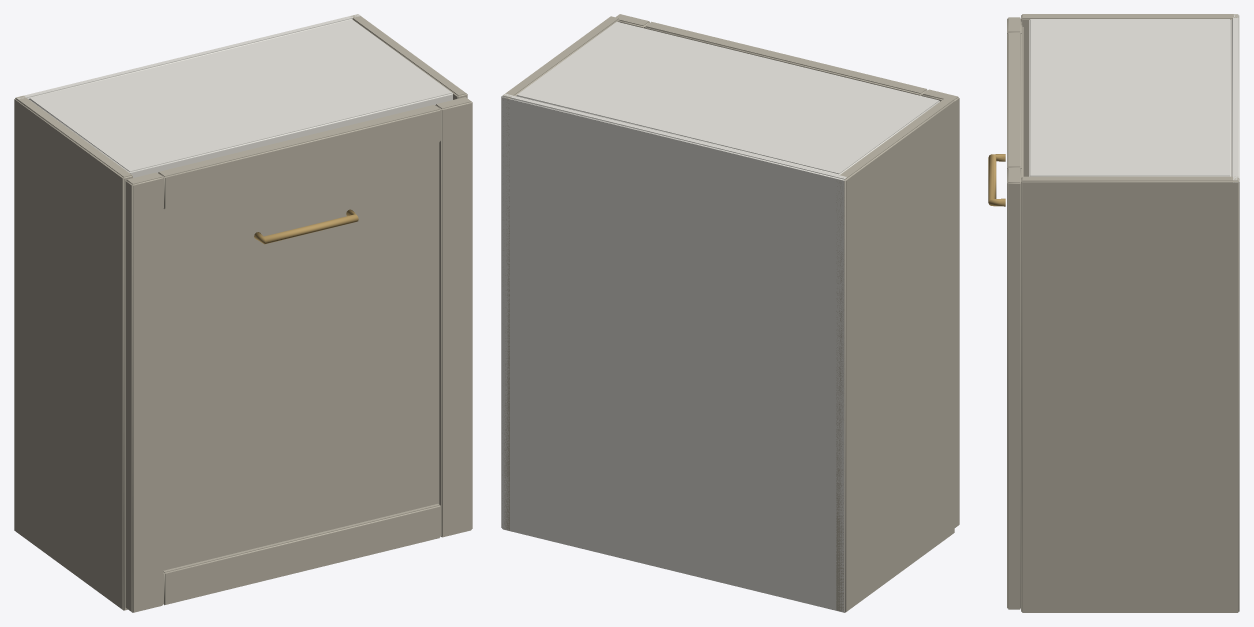
The model's file is scandinavian.kitchen_wall.gltf.
The picture shows the model from 3 angles, left to right: view 1: azimuth 30°, elevation 25°; view 2: azimuth 150°, elevation 25°; view 3: azimuth 270°, elevation 25°; orthographic projection.
Visible parts, largest first — view 1: scandinavian.kitchen_wall.back; view 2: scandinavian.kitchen_wall.back; view 3: scandinavian.kitchen_wall.back.
Boxes of the visible parts, x1,y1,x2,y2 form: scandinavian.kitchen_wall.back: [14, 14, 472, 612]; scandinavian.kitchen_wall.back: [501, 14, 959, 612]; scandinavian.kitchen_wall.back: [988, 14, 1239, 612].
Size of the model in its own units: 0.599 by 0.72 by 0.379.
